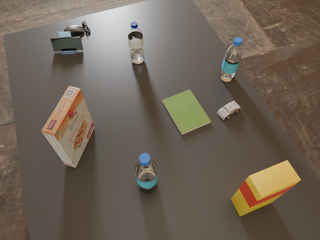book: (163, 90, 211, 134)
bottle: (220, 37, 242, 82), (135, 153, 157, 193), (128, 22, 144, 64)
box: (42, 86, 94, 167), (231, 160, 301, 216)
mouse: (64, 21, 90, 36)
phone: (51, 37, 83, 51)
toy_car: (217, 101, 240, 119)
